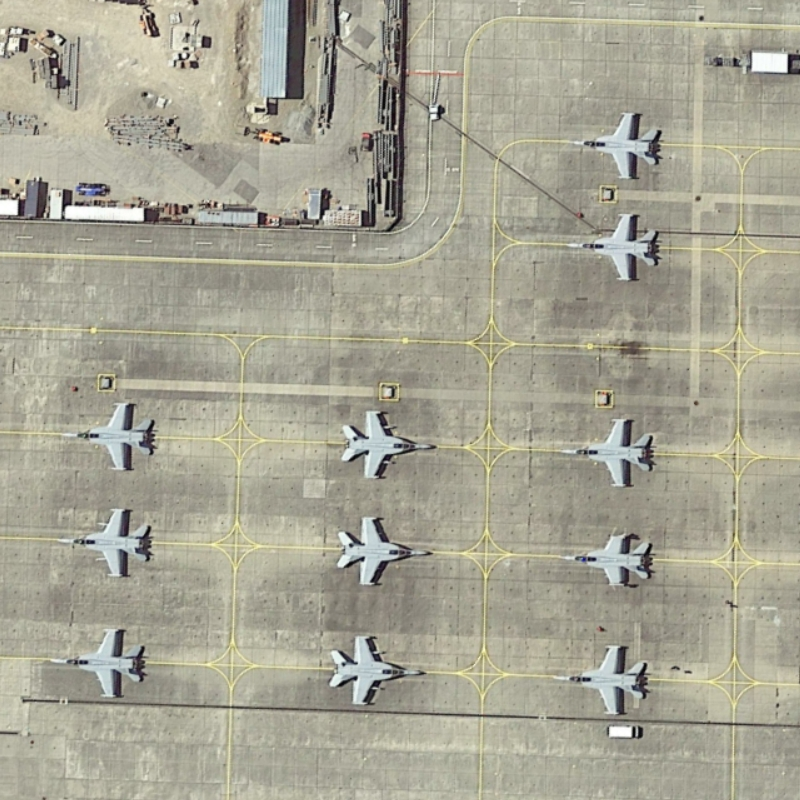A16: (548, 405, 660, 493), (558, 202, 667, 289), (337, 399, 442, 489), (48, 499, 156, 584), (330, 509, 437, 594), (324, 626, 430, 711), (545, 639, 654, 721), (58, 393, 161, 478), (553, 519, 665, 596), (39, 622, 149, 699), (561, 105, 667, 184)
